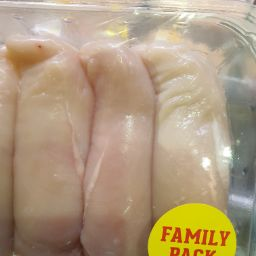Chicken breast: (111, 8, 243, 226), (2, 30, 95, 255), (75, 25, 153, 256)
